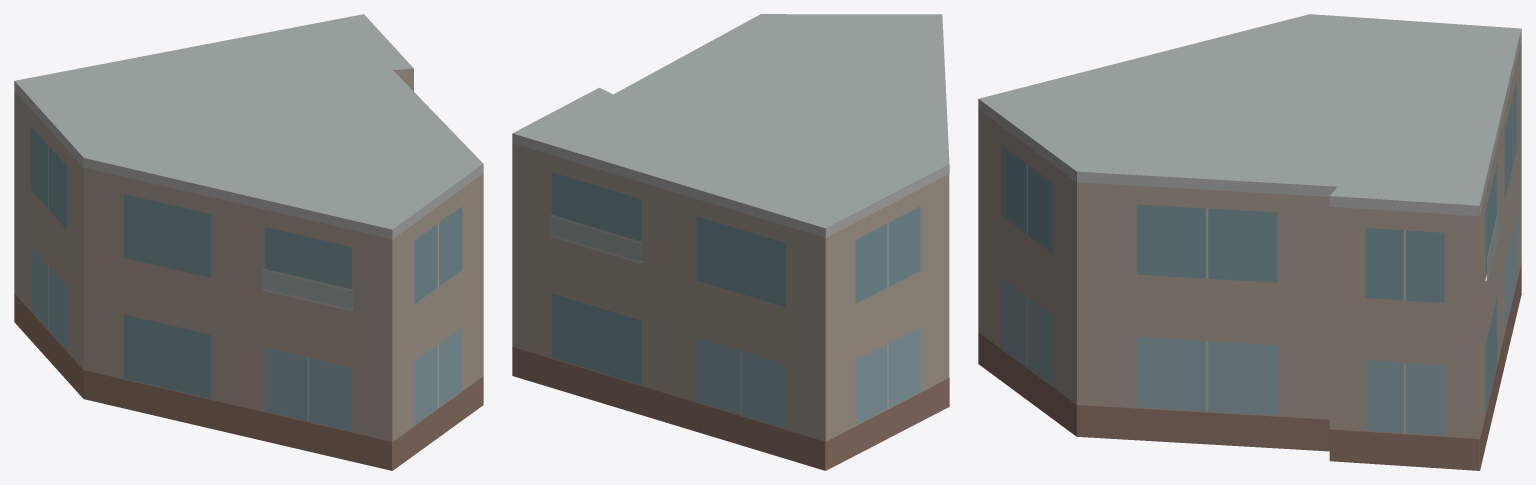
The model's file is survey-upis-32569068.glb.
3 views of the same model, side by side, from view 1: azimuth 30°, elevation 25°; view 2: azimuth 150°, elevation 25°; view 3: azimuth 270°, elevation 25° (orthographic). The views are drawn at different scales.
Parts seen in each view (by area): view 1: survey-upis-32569068.tmp; view 2: survey-upis-32569068.tmp; view 3: survey-upis-32569068.tmp.
Part boxes in pixels (x1,y1,x2,y2): survey-upis-32569068.tmp: (14, 14, 483, 470); survey-upis-32569068.tmp: (512, 14, 949, 470); survey-upis-32569068.tmp: (978, 14, 1521, 470).
Size of the model in its own units: 9.47 by 6.1 by 11.34.
